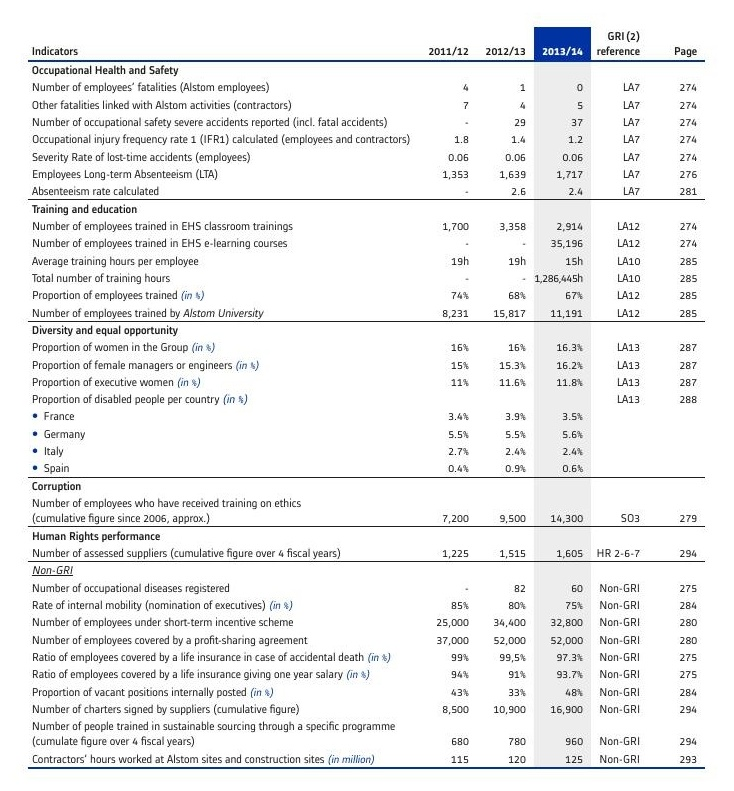table: (0, 0, 734, 791)
